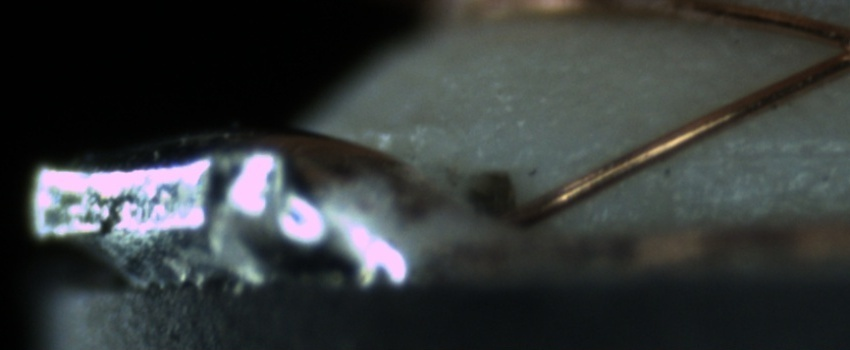CL: (815, 25, 846, 71)
DL: (680, 124, 849, 183)
